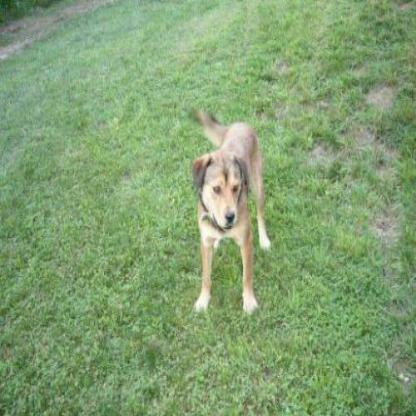dog: (172, 113, 304, 328)
